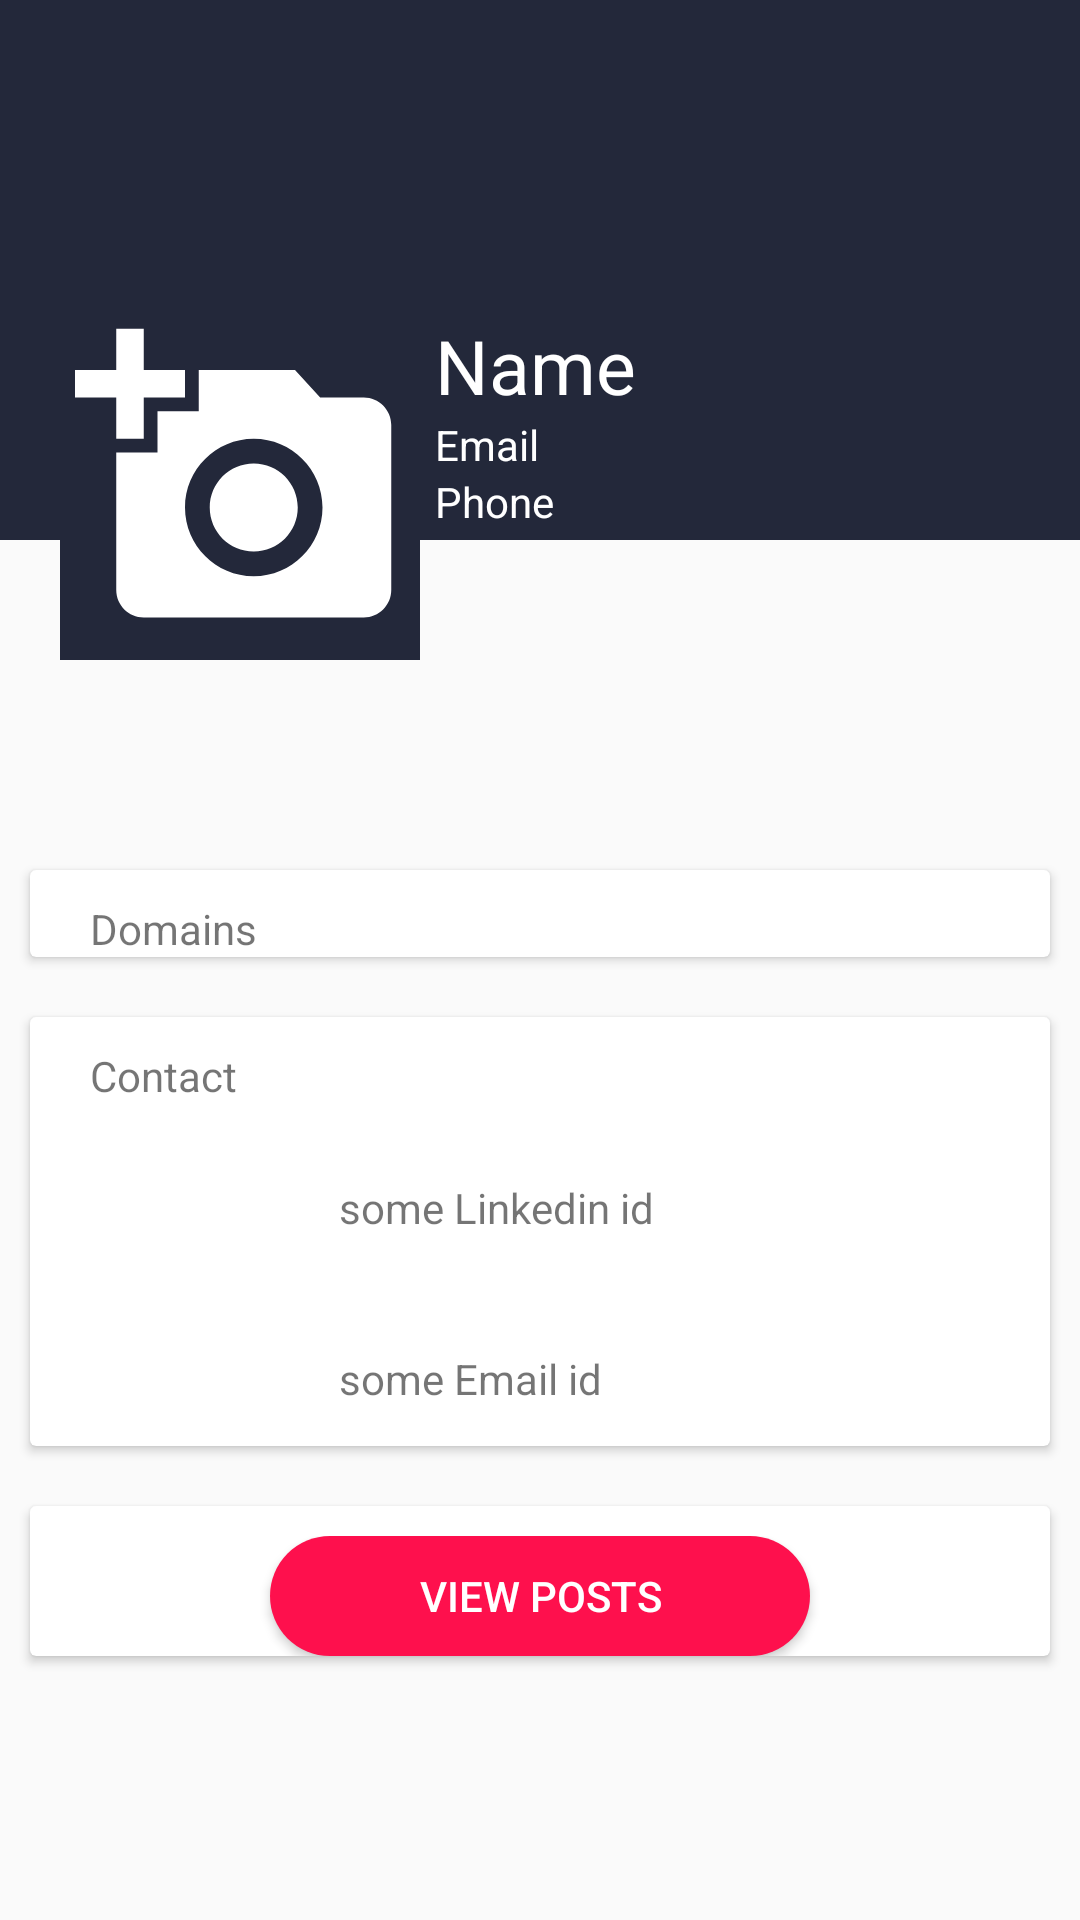

Where icons sit on this 1080 x 1920 app screen, as Rect(x1, y1, x2, y2):
addphoto: Rect(75, 328, 392, 618)
